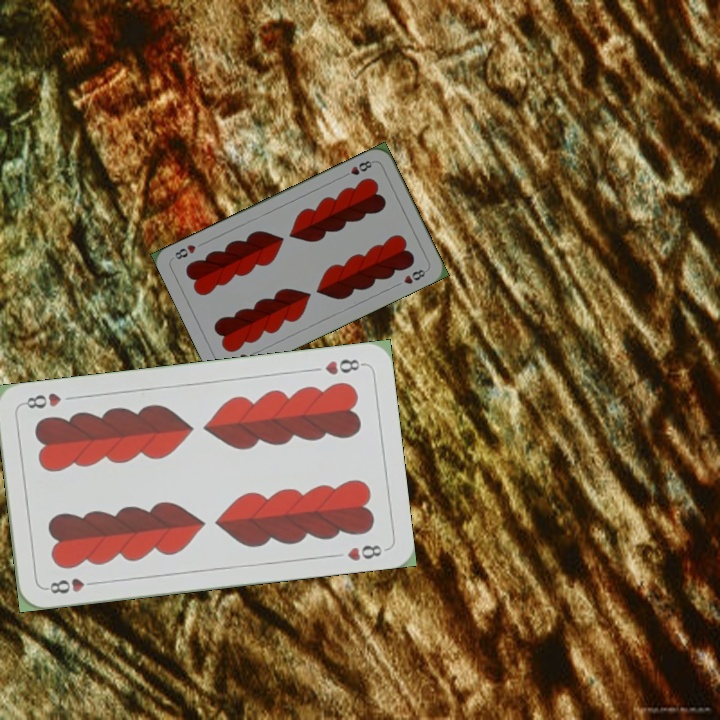H8: (41, 574, 100, 596), (321, 355, 367, 378), (339, 156, 377, 180)
